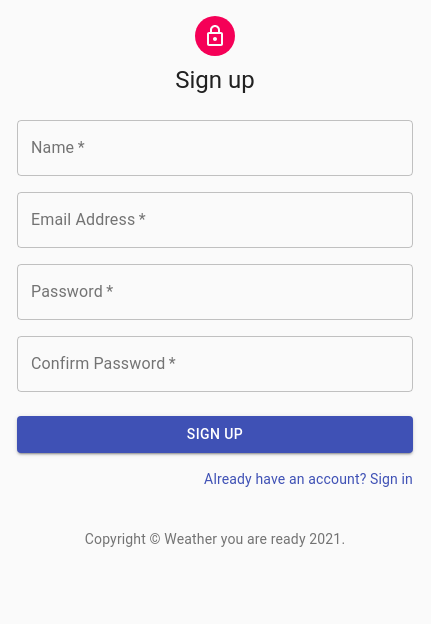
checkSignup › error message shown when submit with invalid email address
Type "test@" into the field with test id "email-input" at (215, 220), box [17,192,413,248]
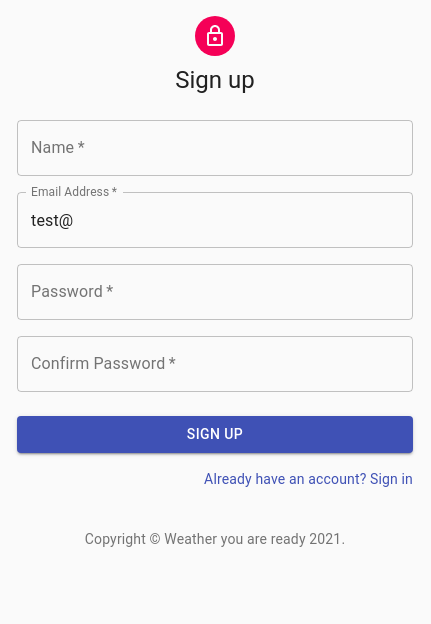
Click the button with test id "submit" at (215, 434), box [17,416,413,452]
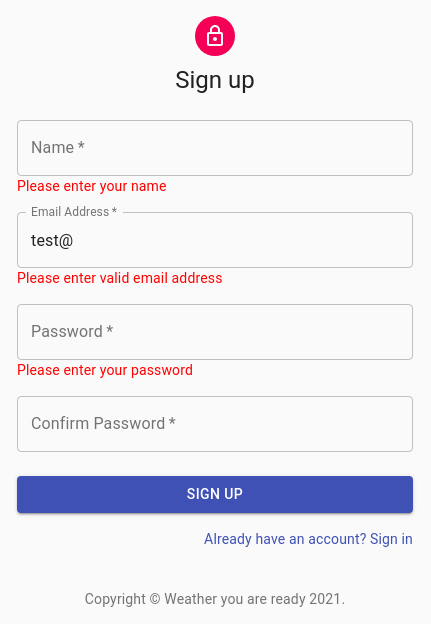
Expected: the text "Please enter valid email address" is shown, [17,270,222,286]
